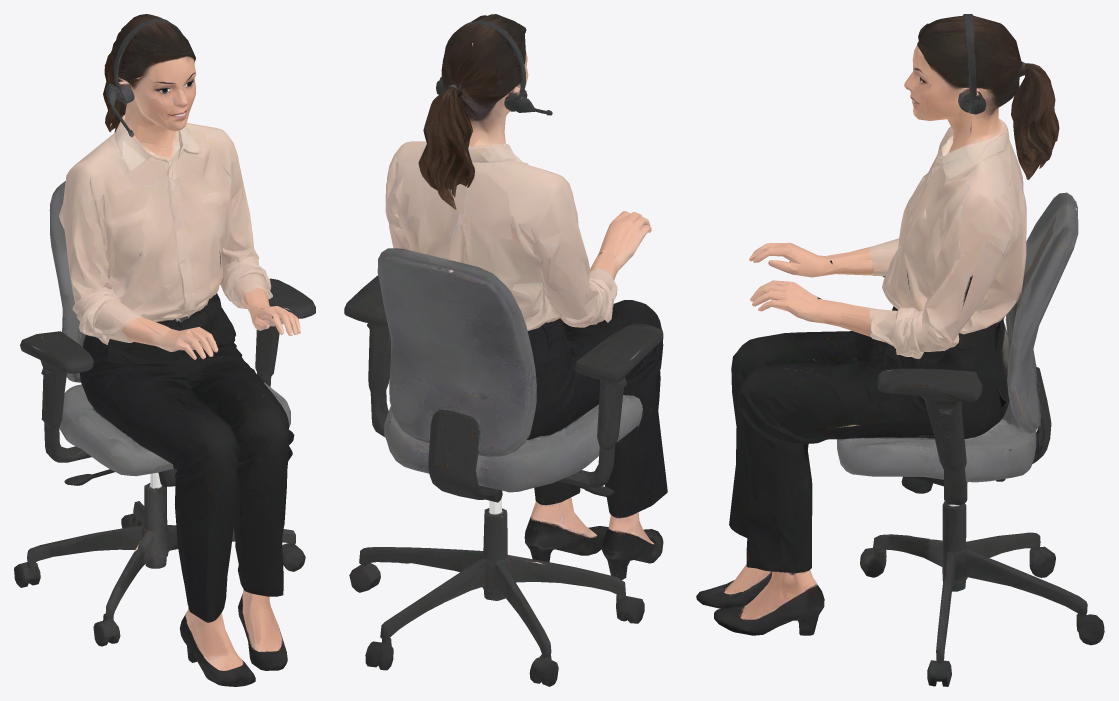
The model's file is dispatcher.glb.
The picture shows the model from 3 angles, left to right: view 1: azimuth 30°, elevation 25°; view 2: azimuth 150°, elevation 25°; view 3: azimuth 270°, elevation 25°; orthographic projection. The views are drawn at different scales.
Visible parts, largest first — view 1: Mesh_0; view 2: Mesh_0; view 3: Mesh_0.
Part boxes in pixels (x1,y1,x2,y2): Mesh_0: [14, 14, 315, 686]; Mesh_0: [344, 14, 667, 686]; Mesh_0: [696, 14, 1104, 686].
Size of the model in its own units: 0.9288 by 1.9 by 1.16.
1 material, 1 textured.
